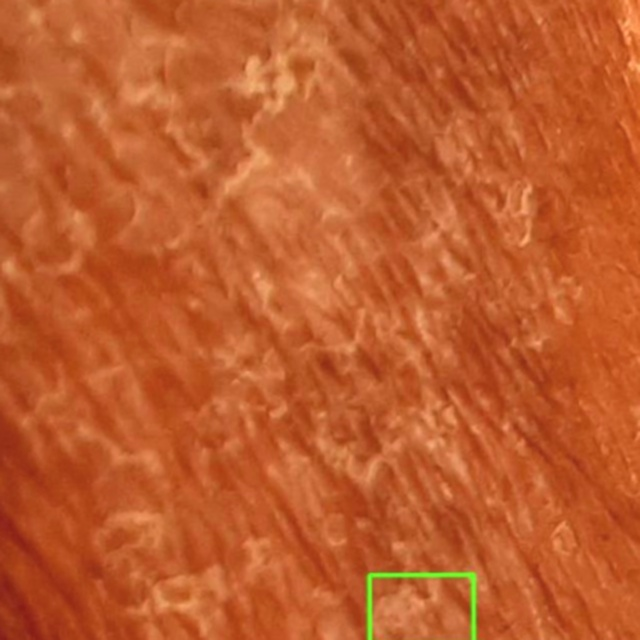Tinea Corporis: (369, 574, 473, 639)
